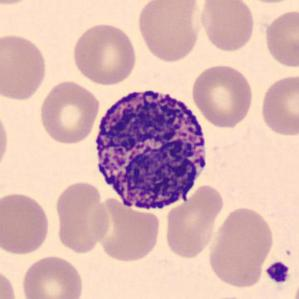Basophil: (88, 79, 214, 218)
Platelets: (264, 260, 291, 284)
RBC: (205, 204, 276, 290), (162, 182, 225, 260), (92, 198, 162, 264), (70, 20, 138, 86), (52, 179, 111, 254), (189, 62, 255, 129), (37, 78, 102, 146), (134, 0, 202, 64), (0, 31, 49, 103), (0, 190, 51, 256), (198, 0, 256, 54), (19, 252, 85, 299), (258, 72, 298, 138), (262, 8, 298, 70), (0, 104, 12, 176), (0, 267, 20, 299), (236, 0, 298, 6), (289, 268, 299, 299), (0, 0, 39, 7)
